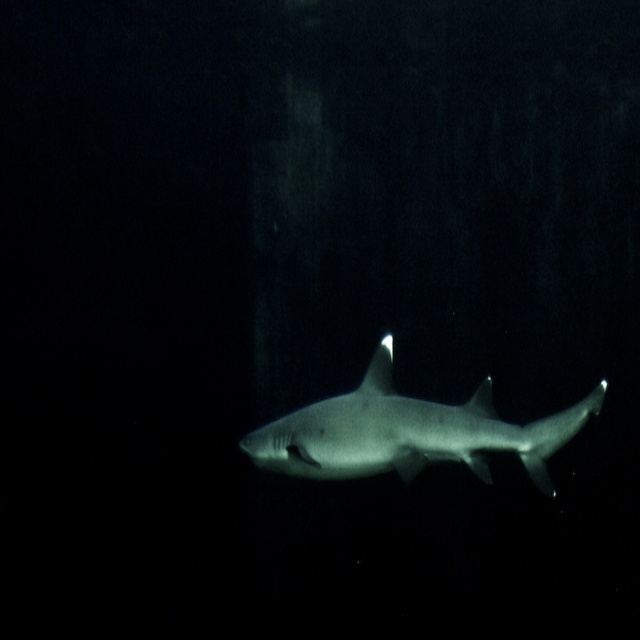Shark: (240, 338, 613, 495)
